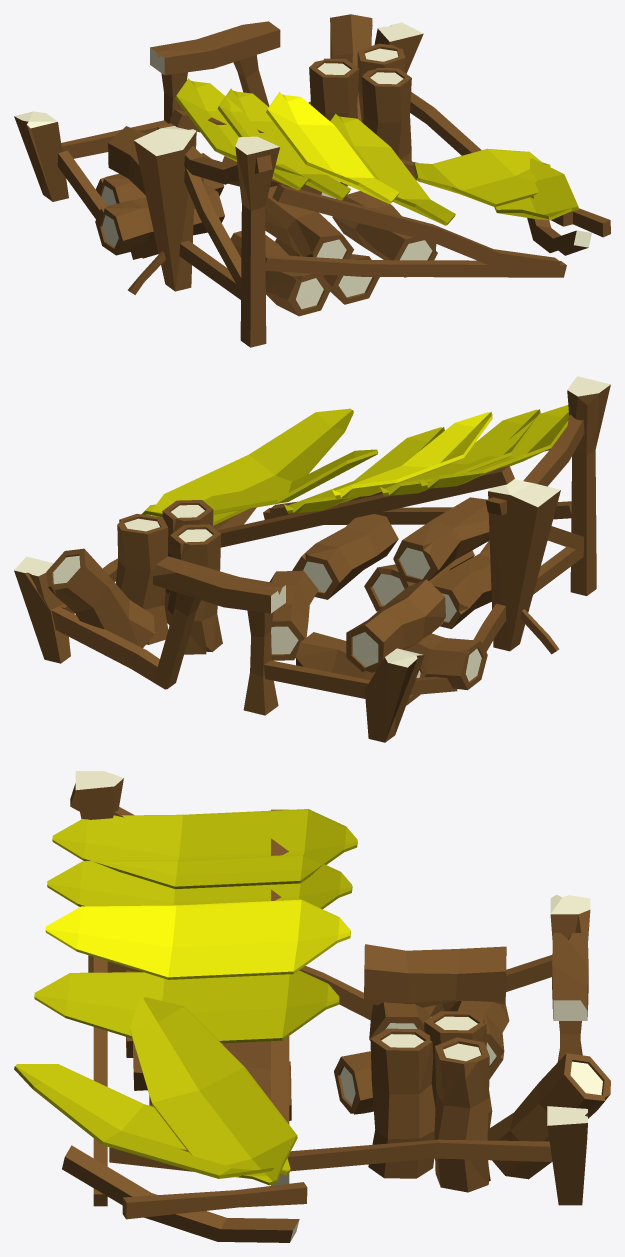
Rendered from RESERVE BOIS 4.fbx.
3 renders of one model, top to bottom at view 1: azimuth 30°, elevation 25°; view 2: azimuth 150°, elevation 25°; view 3: azimuth 270°, elevation 25°, orthographic. The views are drawn at different scales.
Visible parts, largest first — view 1: Cube.017; view 2: Cube.017; view 3: Cube.017.
Part boxes in pixels (box(x1,y1,x2,y2)): Cube.017: box(14, 14, 610, 347); Cube.017: box(14, 376, 610, 742); Cube.017: box(14, 771, 610, 1242).
Bounding box in the file's own units: 600 × 300 × 621.
